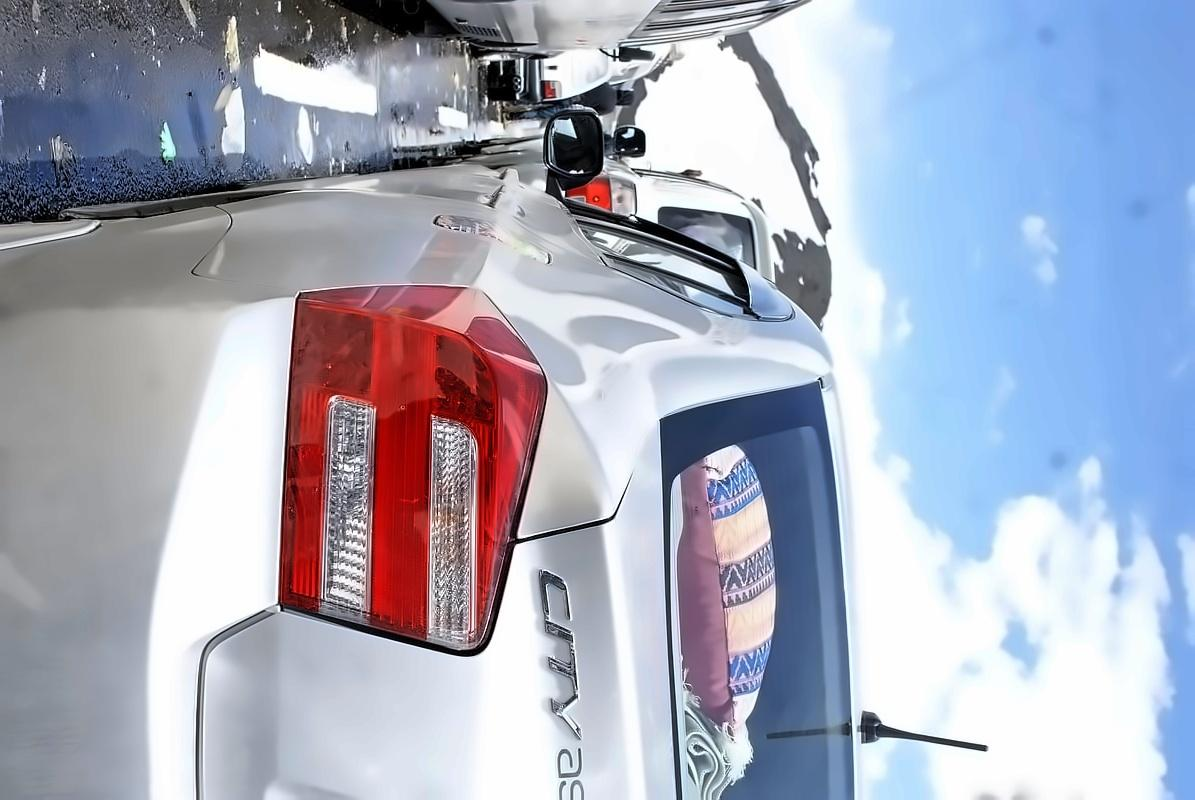Car boot: (194, 444, 668, 800)
Fender - -R-L-: (123, 96, 735, 331)
Rear bumper: (8, 208, 284, 800)
Rear light - -L-: (279, 281, 553, 661)
